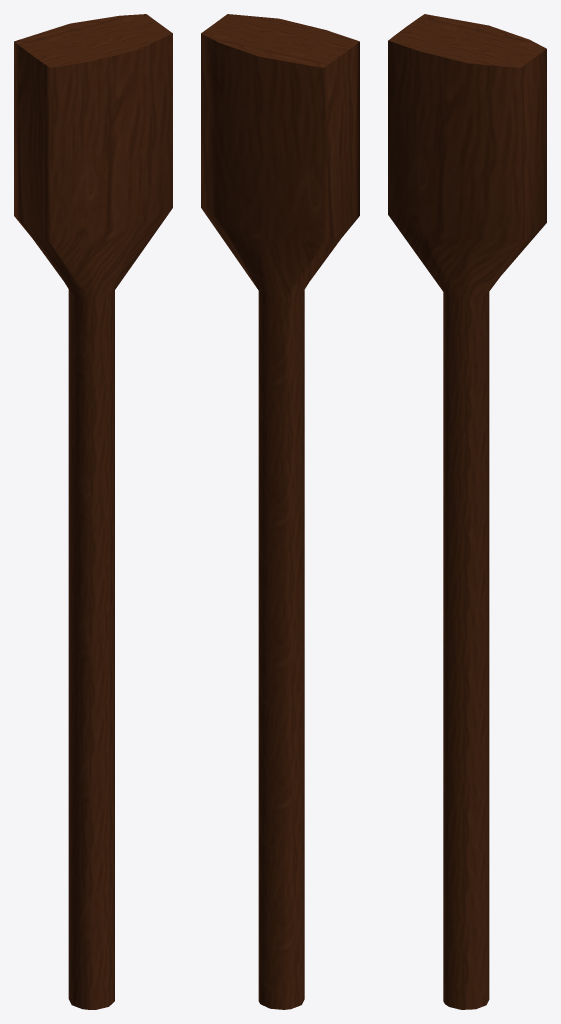
The model's file is RowBoat_Oars.fbx.
The picture shows the model from 3 angles, left to right: view 1: azimuth 30°, elevation 25°; view 2: azimuth 150°, elevation 25°; view 3: azimuth 330°, elevation 25°; orthographic projection.
Visible parts, largest first — view 1: Oar; view 2: Oar; view 3: Oar.
Part boxes in pixels (x1=…): Oar: x1=14, y1=14, x2=172, y2=1009; Oar: x1=201, y1=14, x2=359, y2=1009; Oar: x1=388, y1=14, x2=546, y2=1009.
Bounding box in the file's own units: 1.33 × 9.52 × 0.7904.
